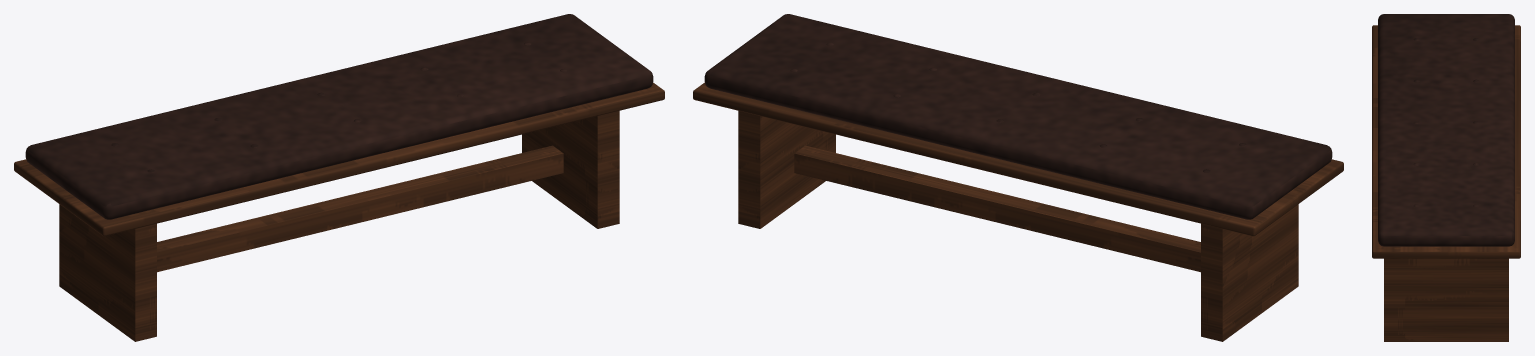
The model's file is bench.gltf.
3 views of the same model, side by side, from view 1: azimuth 30°, elevation 25°; view 2: azimuth 150°, elevation 25°; view 3: azimuth 270°, elevation 25° (orthographic). The views are drawn at different scales.
Parts seen in each view (by area): view 1: Bench; view 2: Bench; view 3: Bench.
Part boxes in pixels (box(x1,y1,x2,y2)): Bench: box(14, 14, 664, 341); Bench: box(693, 14, 1343, 341); Bench: box(1372, 14, 1520, 341).
Size of the model in its own units: 1.8 by 0.4544 by 0.5.
Materials: 2 (2 with a texture image).
